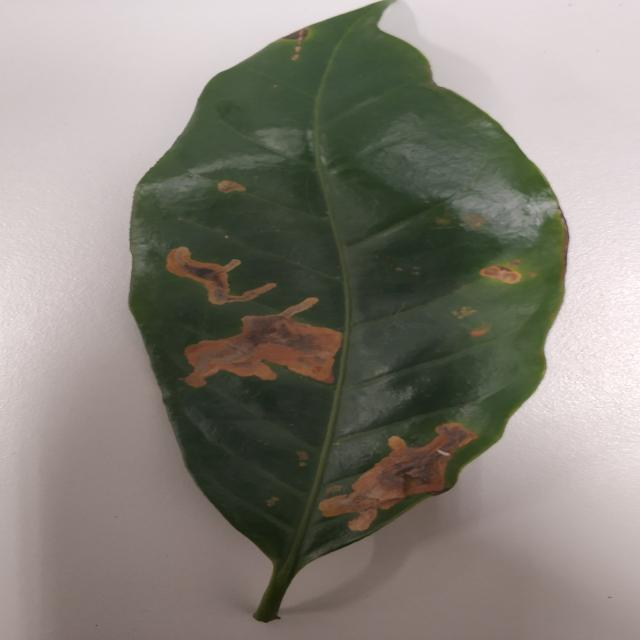Plaga-Minador: (126, 0, 571, 625)
